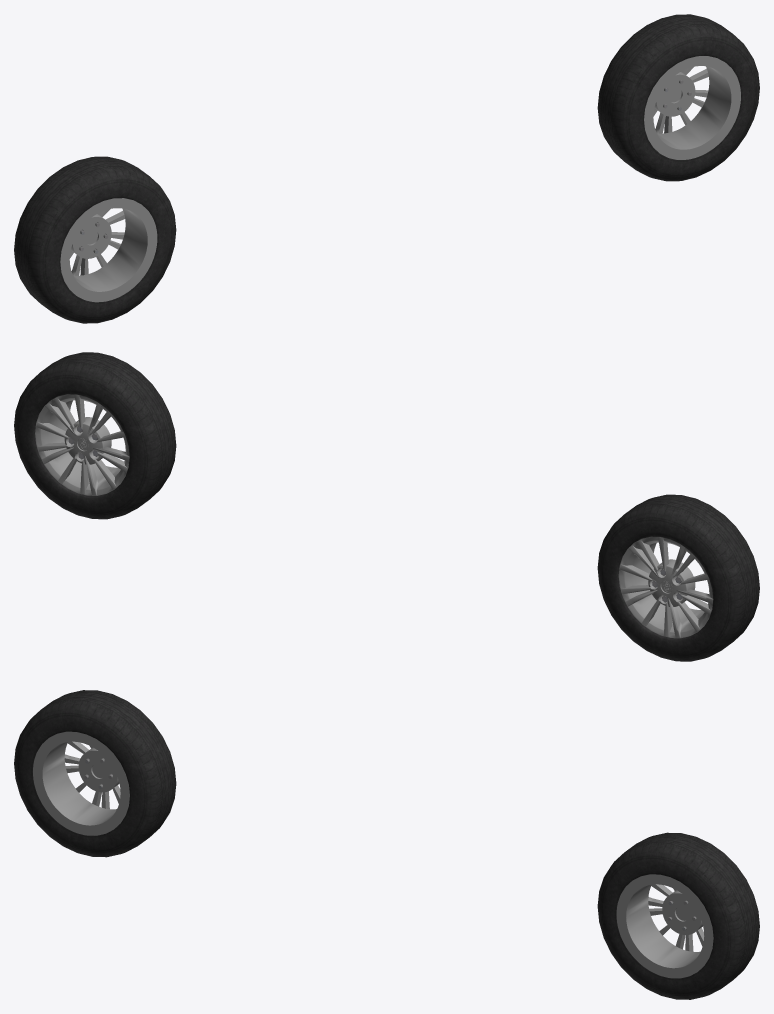
The picture shows the model from 3 angles, top to bottom: view 1: azimuth 30°, elevation 25°; view 2: azimuth 150°, elevation 25°; view 3: azimuth 330°, elevation 25°; orthographic projection.
Parts seen in each view (by area): view 1: LT_P001, LT_P1, LG015, LG011; view 2: LT_P001, LT_P1, LG011, LG015; view 3: LT_P001, LT_P1, LG011, LG015.
Boxes of the visible parts, x1,y1,x2,y2 form: LT_P001: (14, 156, 176, 323); LT_P1: (597, 14, 759, 181); LG015: (60, 198, 157, 302); LG011: (644, 56, 740, 159); LT_P001: (597, 494, 759, 661); LT_P1: (14, 352, 176, 519); LG011: (35, 394, 129, 495); LG015: (618, 536, 713, 638); LT_P001: (14, 690, 176, 857); LT_P1: (597, 832, 759, 999); LG011: (616, 874, 713, 978); LG015: (33, 731, 129, 835).
Bounding box in the file's own units: 345 × 68.39 × 23.78.
